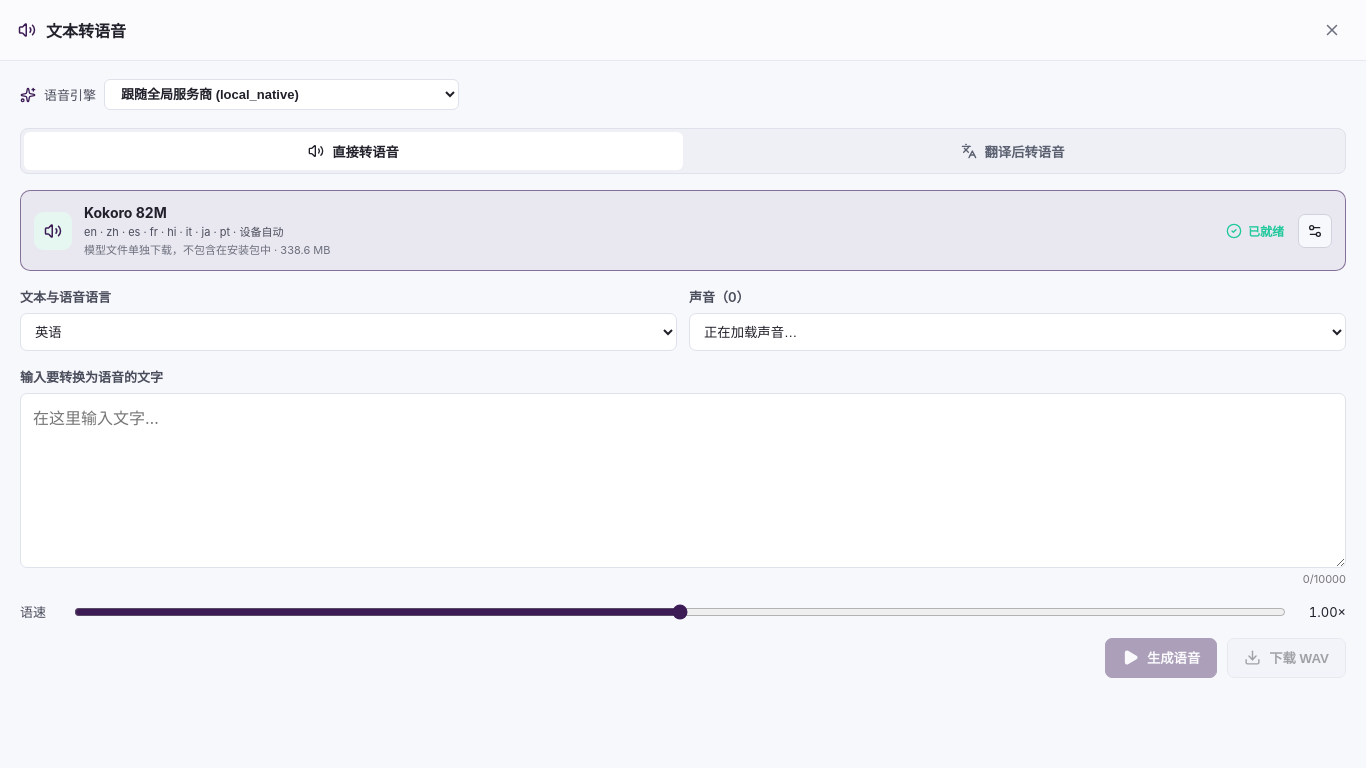
Test case: TextToSpeechDialog modes › exposes model languages including Japanese
Select "日语" in the dropdown labelled "文本与语音语言" at (348, 332), box [20, 313, 677, 351]
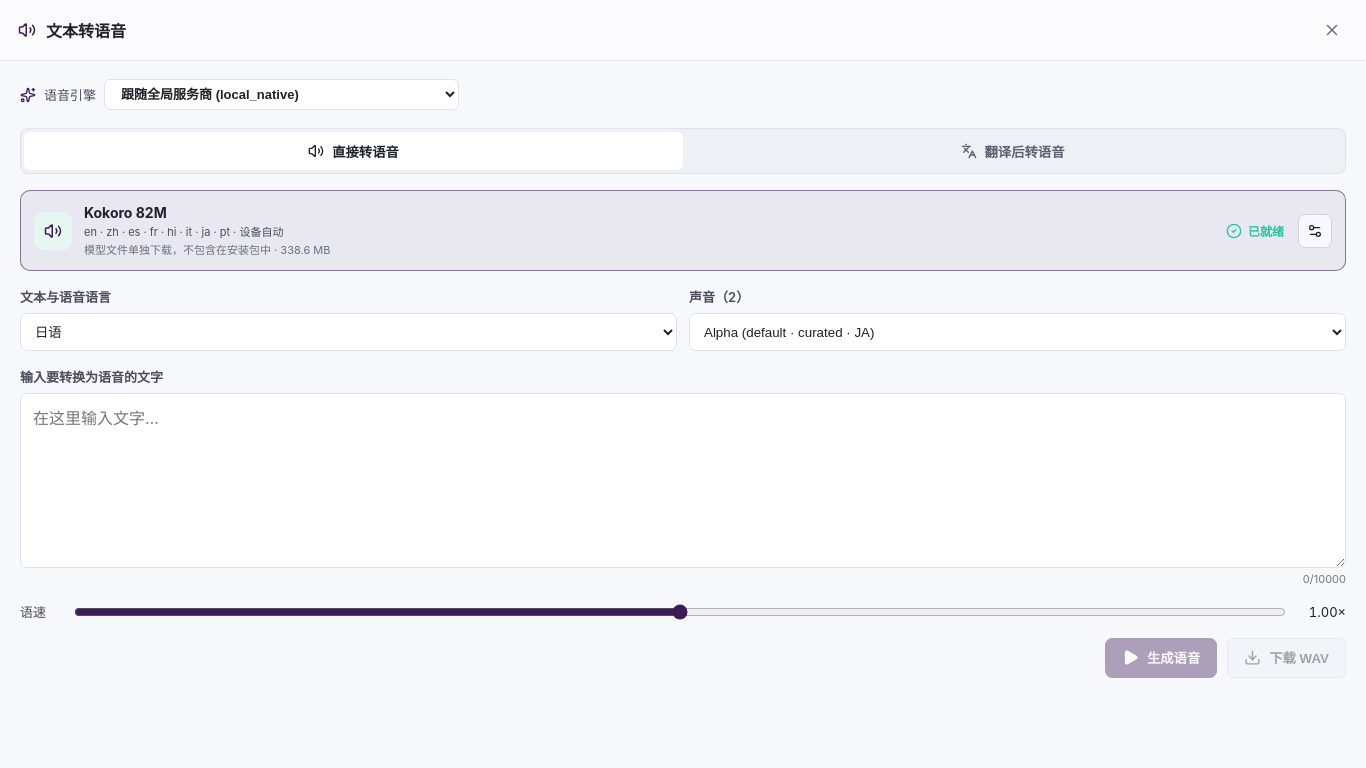
Now the dropdown labelled "声音（2）" shows "Alpha (default · curated · JA)", box [689, 313, 1346, 351]
